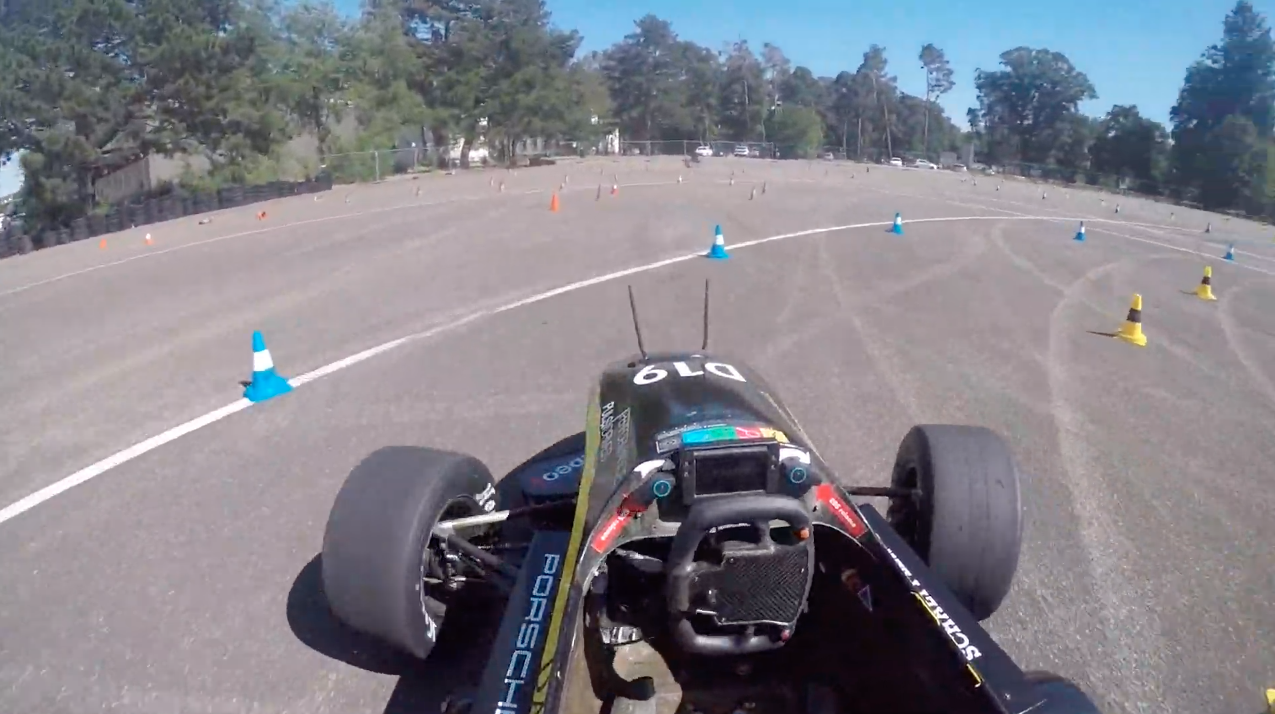lcone: (236, 328, 303, 407), (702, 220, 736, 263), (886, 210, 908, 236)
rcone: (1109, 289, 1153, 349), (1189, 263, 1221, 303)
